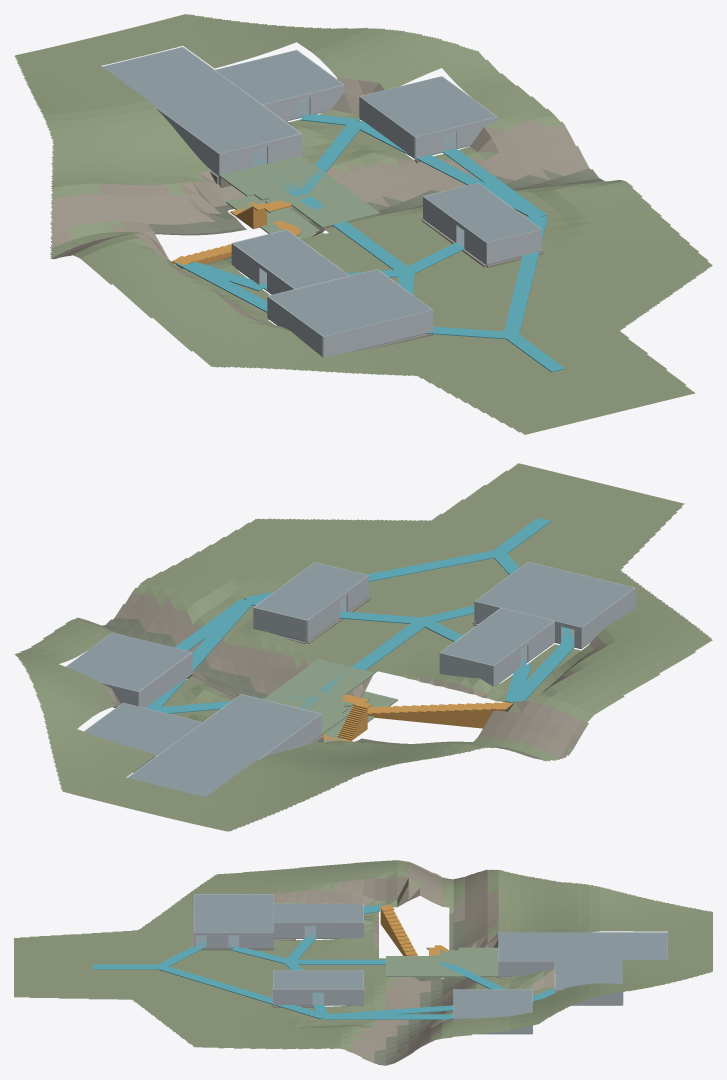
Rendered from benched-terrain.glb.
The picture shows the model from 3 angles, top to bottom: view 1: azimuth 30°, elevation 25°; view 2: azimuth 150°, elevation 25°; view 3: azimuth 270°, elevation 25°; orthographic projection. The views are drawn at different scales.
Visible parts, largest first — view 1: Saved editor stair bench terrain WLD-12, Ceiling cap tunnel, Ceiling cap signal, Ceiling cap store, Ceiling cap refuge, Ceiling cap coach-b, Ceiling cap coach-a, Wall signal S, Floor trestle.008, L14 support 0, L04 support 0, Bayed shell Floor lower (+14 smaller); view 2: Saved editor stair bench terrain WLD-12, Ceiling cap tunnel, Ceiling cap signal, Ceiling cap store, Ceiling cap refuge, Ceiling cap coach-b, Ceiling cap coach-a, Floor trestle.008, L14 support 0, L04 support 0, Wall store W, Wall coach-b N (+12 smaller); view 3: Saved editor stair bench terrain WLD-12, Ceiling cap tunnel, Ceiling cap signal, Ceiling cap store, Ceiling cap coach-b, Ceiling cap coach-a, Ceiling cap refuge, L04 support 0, Floor trestle.008, Wall coach-a E, L15 support 0, Wall tunnel E.001 (+14 smaller).
Boxes of the visible parts, x1,y1,x2,y2 form: Saved editor stair bench terrain WLD-12: (14,14,712,434); Ceiling cap tunnel: (102,47,299,153); Ceiling cap signal: (269,269,432,336); Ceiling cap store: (360,76,496,136); Ceiling cap refuge: (215,50,342,104); Ceiling cap coach-b: (424,183,540,242); Ceiling cap coach-a: (233,230,349,288); Wall signal S: (323,310,432,357); Floor trestle.008: (293,188,380,226); L14 support 0: (354,120,545,218); L04 support 0: (503,216,547,335); Bayed shell Floor lower: (226,195,324,239); Saved editor stair bench terrain WLD-12: (14,463,712,831); Ceiling cap tunnel: (128,694,320,796); Ceiling cap signal: (475,562,634,627); Ceiling cap store: (66,633,191,691); Ceiling cap refuge: (84,703,202,755); Ceiling cap coach-b: (255,562,367,619); Ceiling cap coach-a: (440,608,553,665); Floor trestle.008: (285,659,369,695); L14 support 0: (146,599,253,710); L04 support 0: (244,550,501,602); Wall store W: (138,652,192,707); Wall coach-b N: (253,607,306,641); Saved editor stair bench terrain WLD-12: (14,860,712,1065); Ceiling cap tunnel: (498,932,667,960); Ceiling cap signal: (194,894,273,932); Ceiling cap store: (453,989,532,1018); Ceiling cap coach-b: (273,970,363,989); Ceiling cap coach-a: (273,903,363,922); Ceiling cap refuge: (555,961,622,989); L04 support 0: (157,965,325,1019); Floor trestle.008: (386,957,434,976); Wall coach-a E: (316,922,363,938); L15 support 0: (324,1014,453,1019); Wall tunnel E.001: (498,961,554,976).
Bounding box in the file's own units: 75 × 10.11 × 124.
